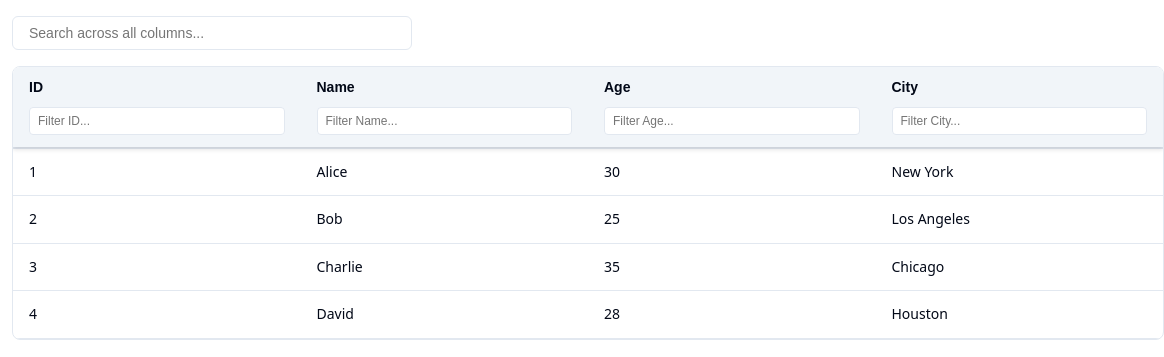
Test: InteractiveTable › Column Sorting › should sort by column in descending order on second click
First click - ascending
Click the button "Age" at x=732, y=87, box [604,79,860,95]
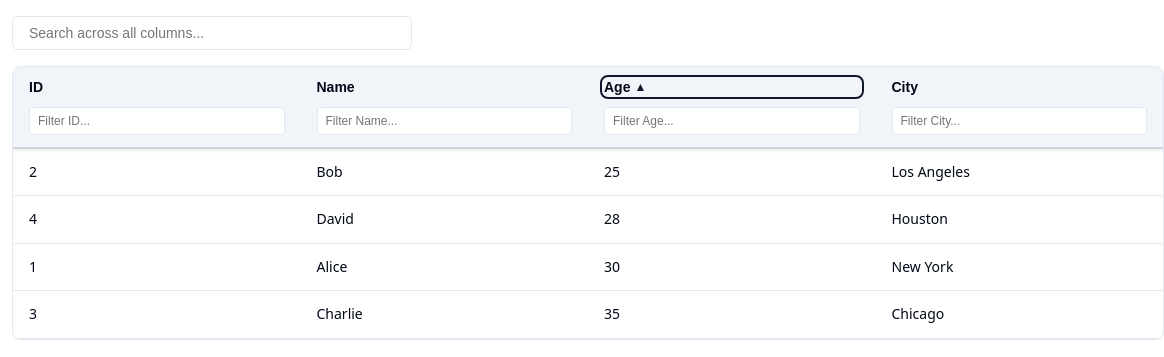
Second click - descending
Click the button "Age ▲" at x=732, y=87, box [604,79,860,95]
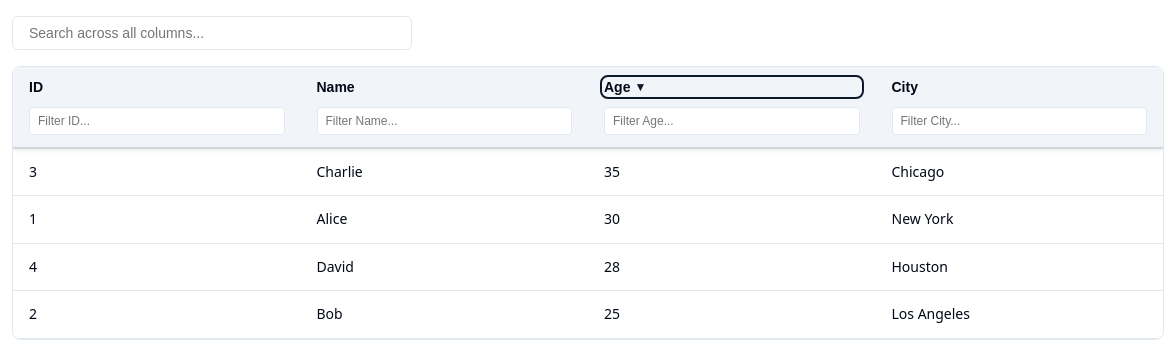
Expected: the text "35" is shown, [588,148,876,196]
Expected: the text "30" is shown, [588,196,876,243]
Expected: the text "28" is shown, [588,243,876,291]
